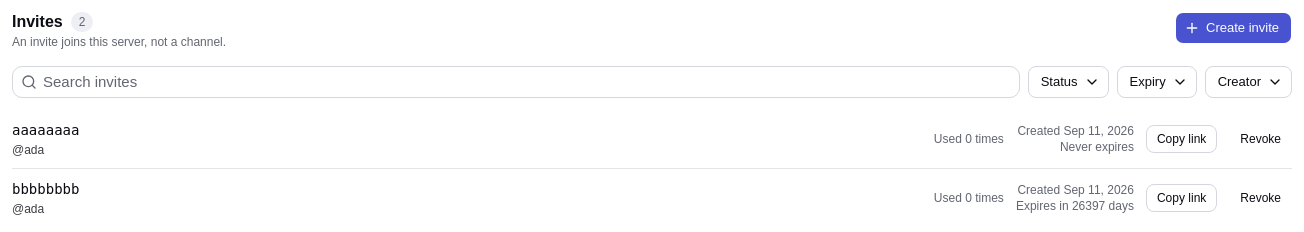
Scenario: InvitesPage › tells a link that expires from one that never does
Expected: the text "aaaaaaaa" is shown, left=12, top=122, right=79, bottom=138
Click the button "Expiry" at (1157, 82), box left=1116, top=66, right=1197, bottom=98
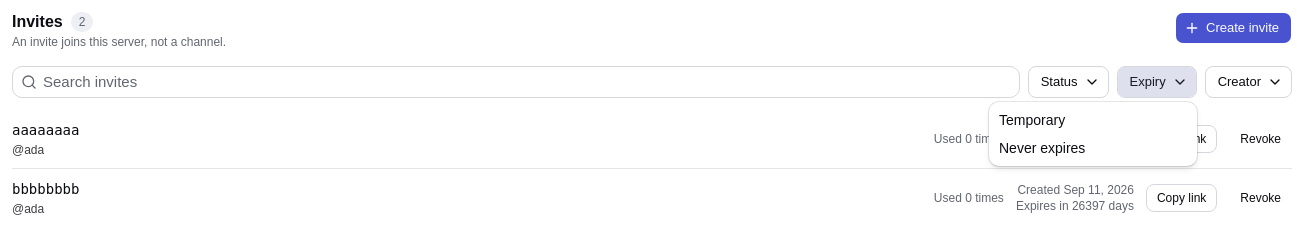
Click the menu item "Never expires" at (1042, 148), box left=999, top=140, right=1085, bottom=156
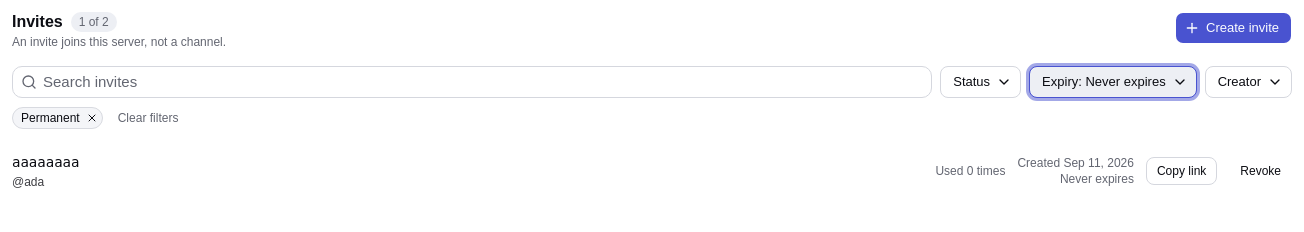
Expected: the text "aaaaaaaa" is shown, left=12, top=154, right=79, bottom=170
Expected: the text "bbbbbbbb" is gone
